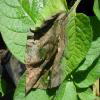Potato leaf late blight: (24, 8, 93, 99)
